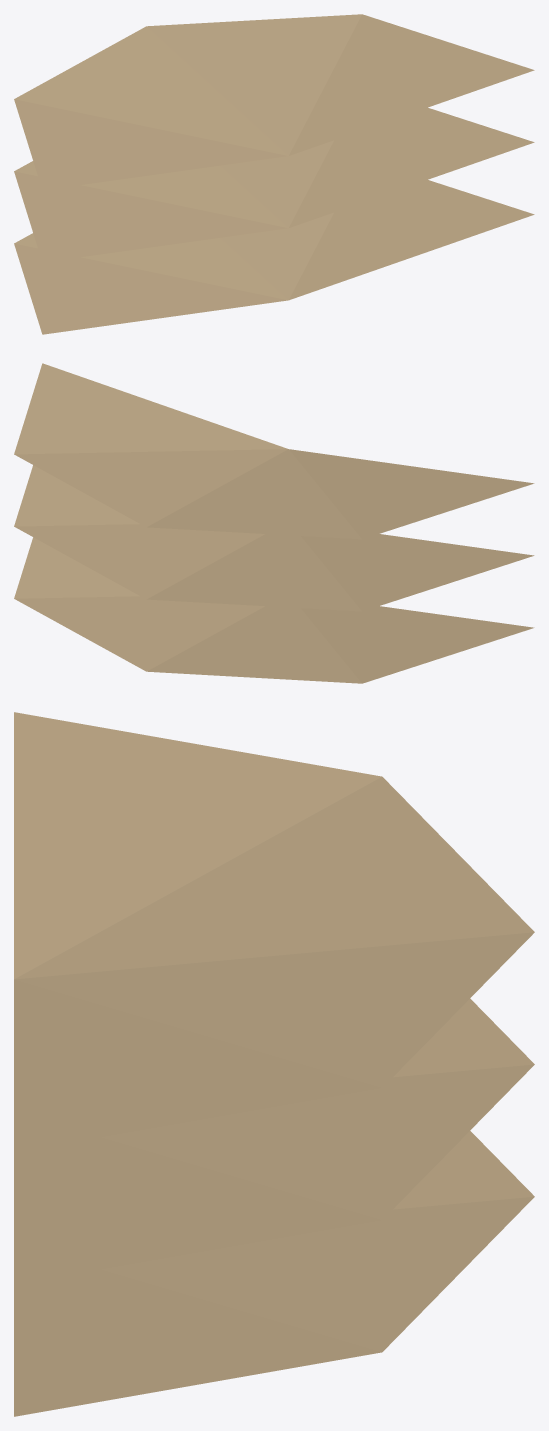
File: shelf_fungus_lod2.glb
The picture shows the model from 3 angles, top to bottom: view 1: azimuth 30°, elevation 25°; view 2: azimuth 150°, elevation 25°; view 3: azimuth 270°, elevation 25°; orthographic projection. The views are drawn at different scales.
Visible parts, largest first — view 1: Leaves; view 2: Leaves; view 3: Leaves.
Boxes of the visible parts, box(x1,y1,x2,y2) form: Leaves: box(14, 14, 534, 334); Leaves: box(14, 363, 534, 683); Leaves: box(14, 712, 534, 1416).
Bounding box in the file's own units: 1 × 0.33 × 0.5.
